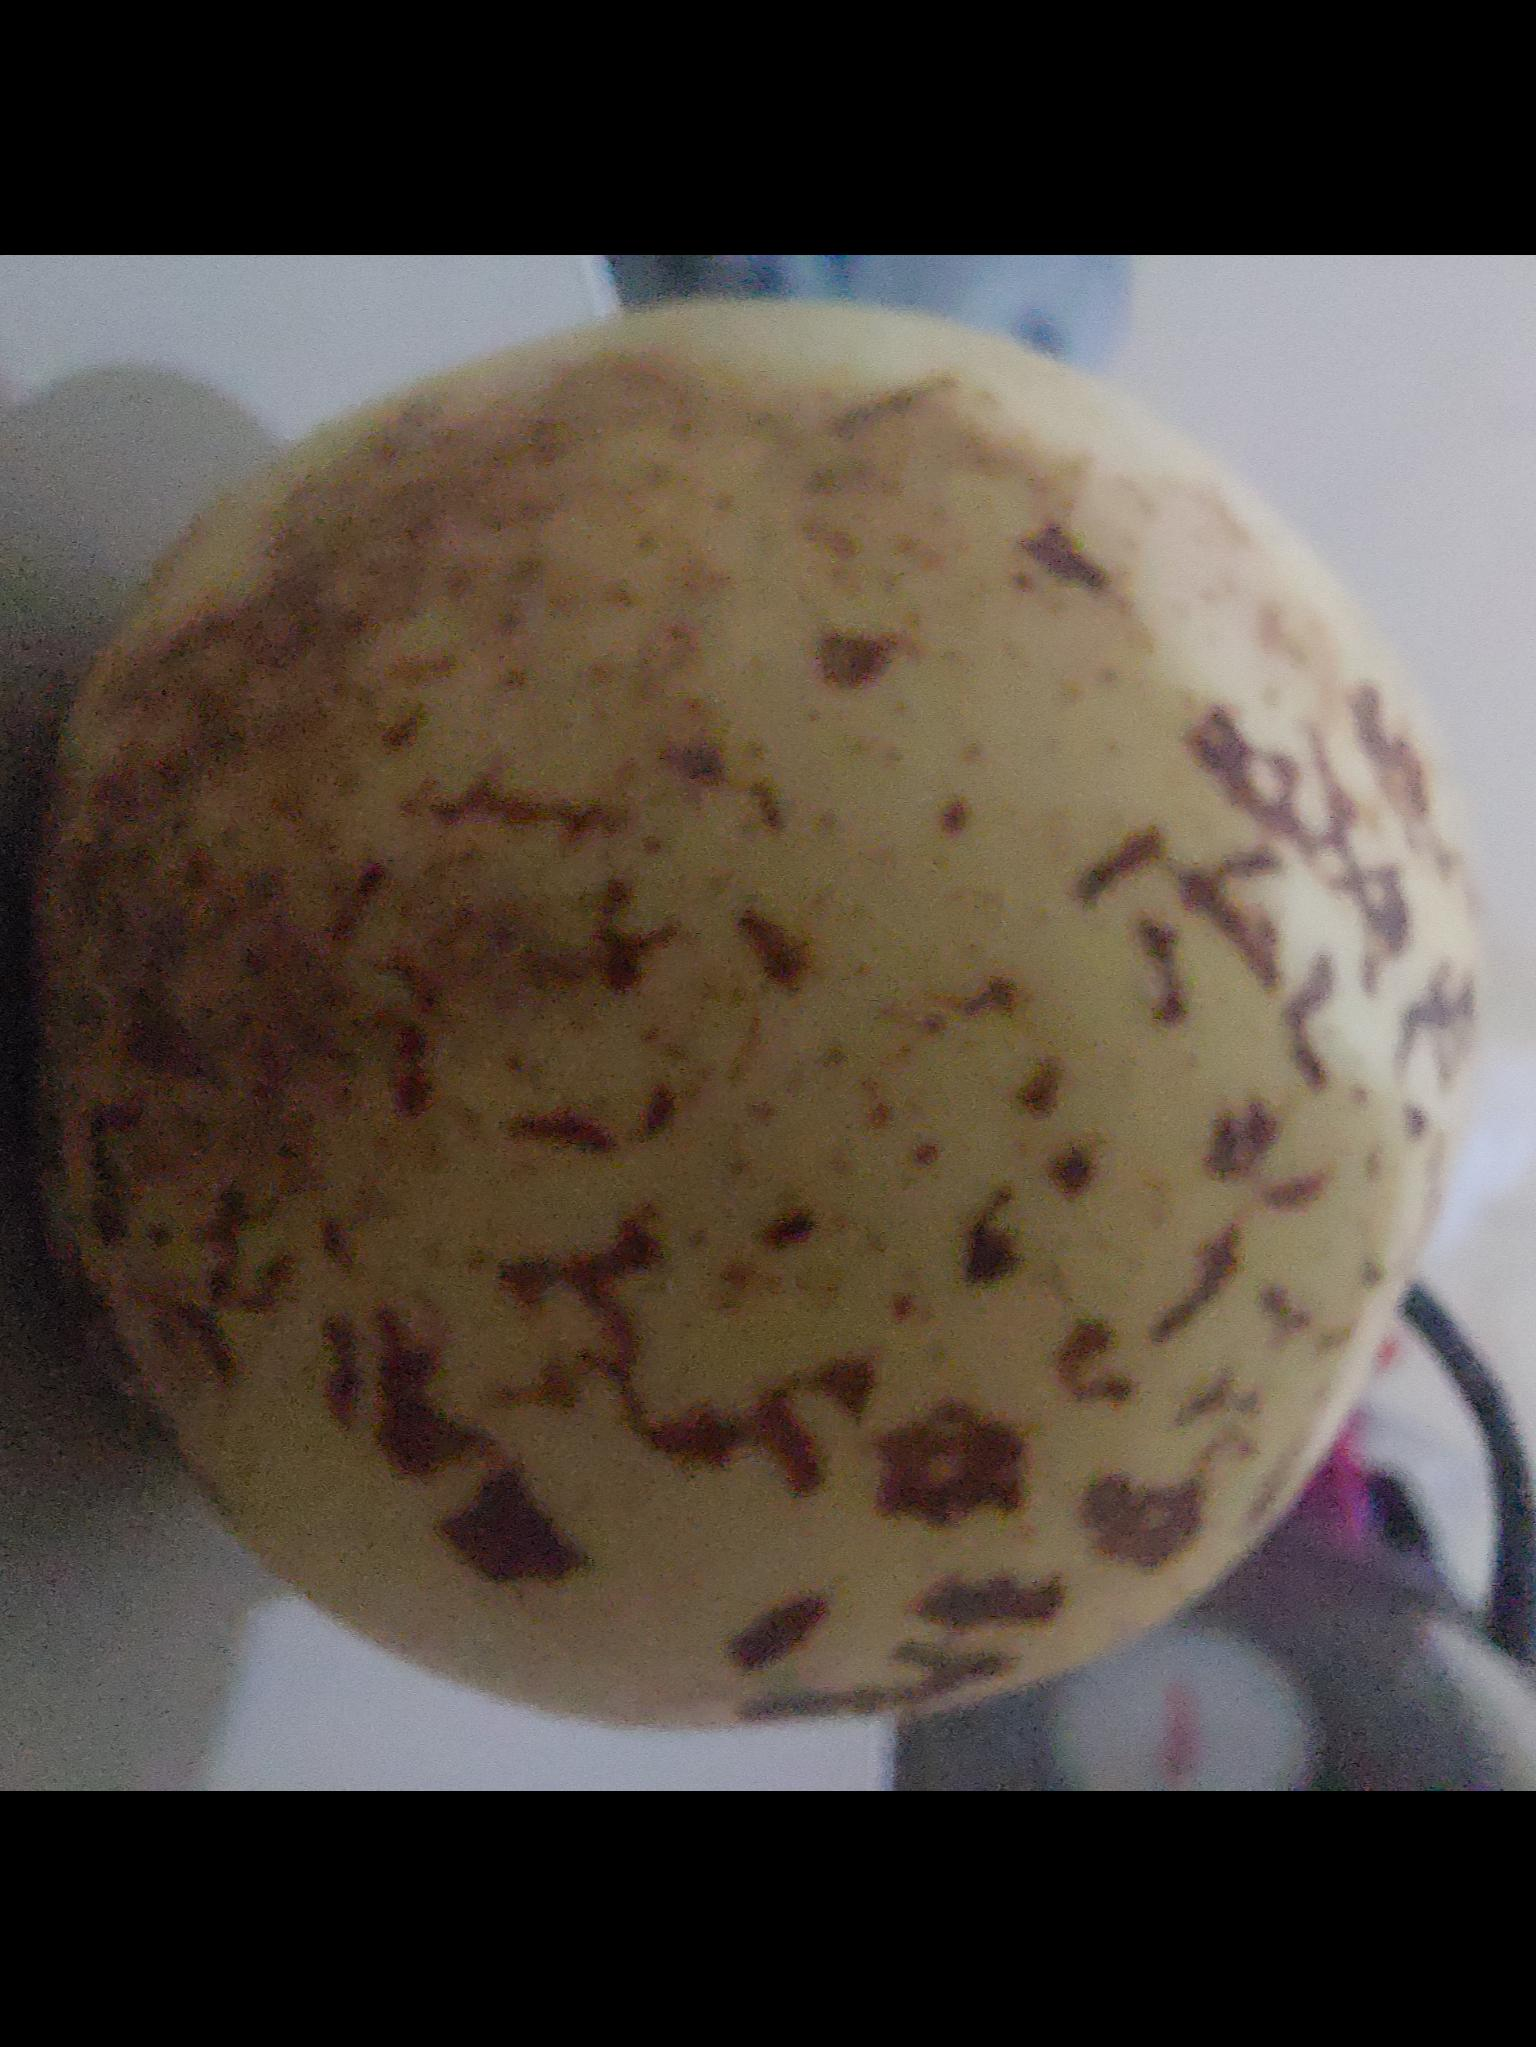Bad Pear: (0, 295, 1536, 1792)
